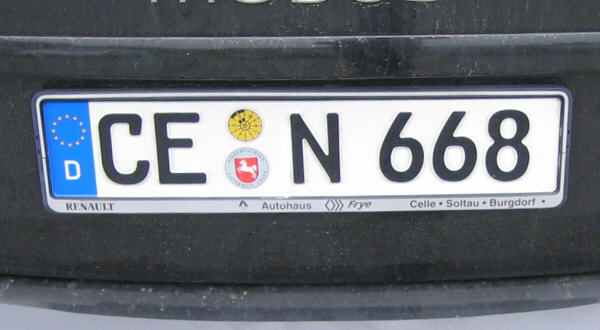license_plate: (35, 95, 563, 197)
